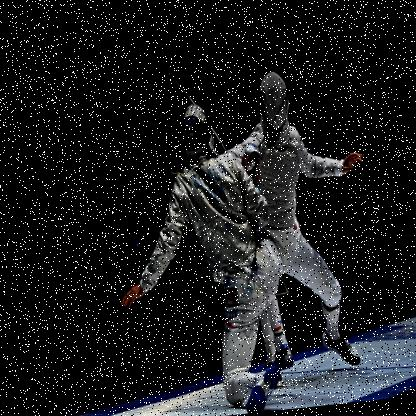fencer: (92, 92, 300, 415), (232, 63, 390, 386)
